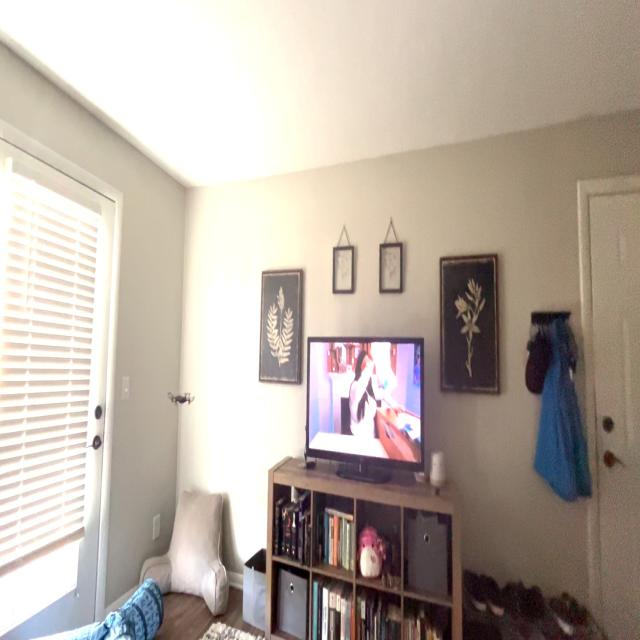drone: (156, 373, 203, 421)
